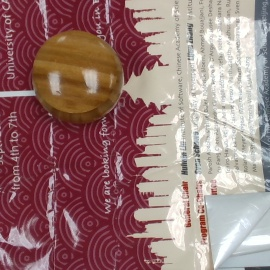chess: (32, 31, 124, 122)
